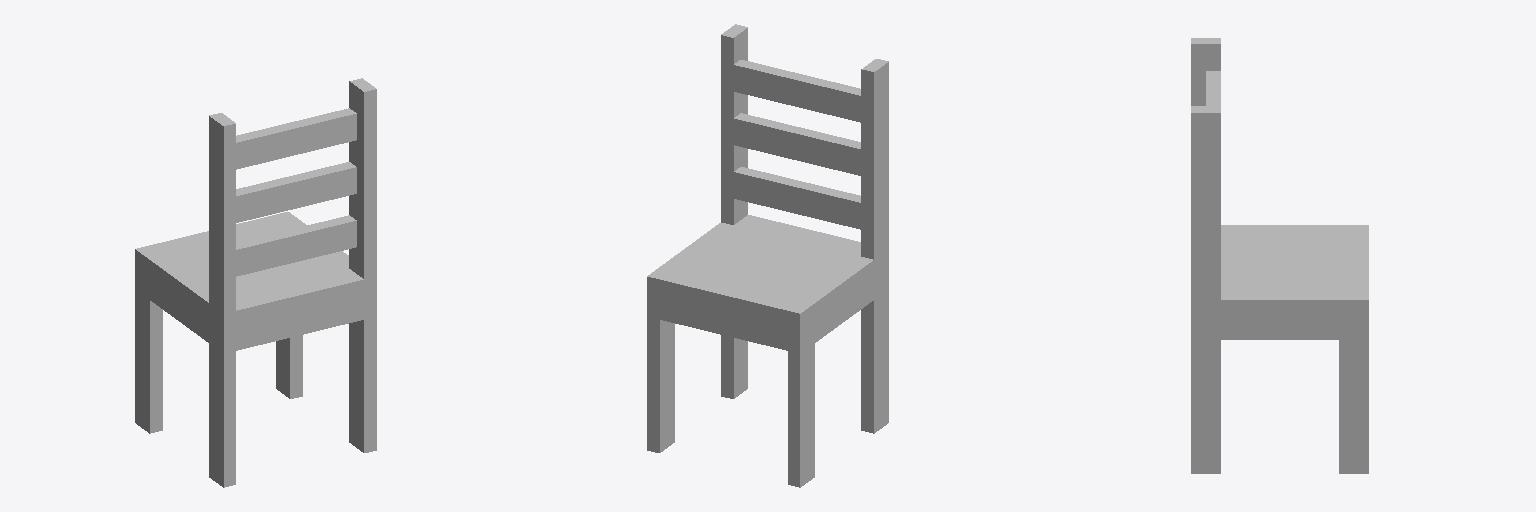
Rendered from PinkChair.obj.
The picture shows the model from 3 angles: view 1: azimuth 30°, elevation 25°; view 2: azimuth 150°, elevation 25°; view 3: azimuth 270°, elevation 25°; orthographic projection.
Parts seen in each view (by area): view 1: object 1; view 2: object 1; view 3: object 1.
Boxes of the visible parts, x1,y1,x2,y2 form: object 1: [135, 78, 376, 487]; object 1: [647, 24, 888, 487]; object 1: [1191, 38, 1368, 473].
Bounding box in the file's own units: 2.4 × 5.4 × 2.4.